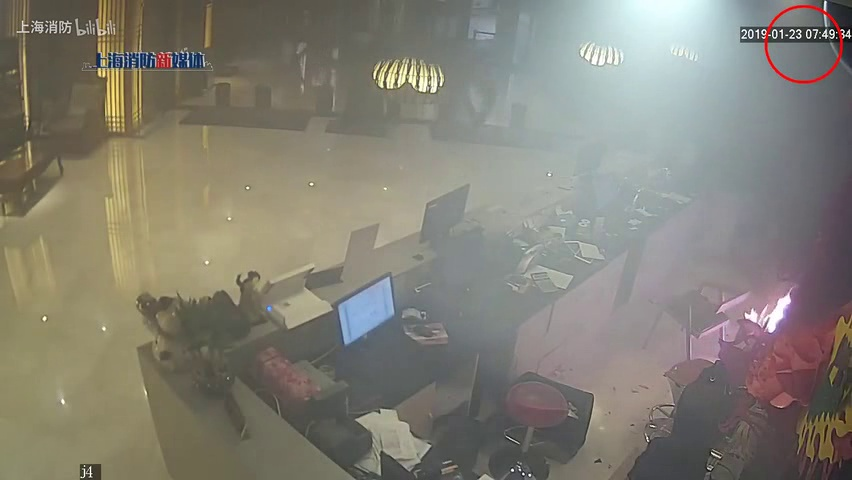fire: (741, 282, 795, 339)
